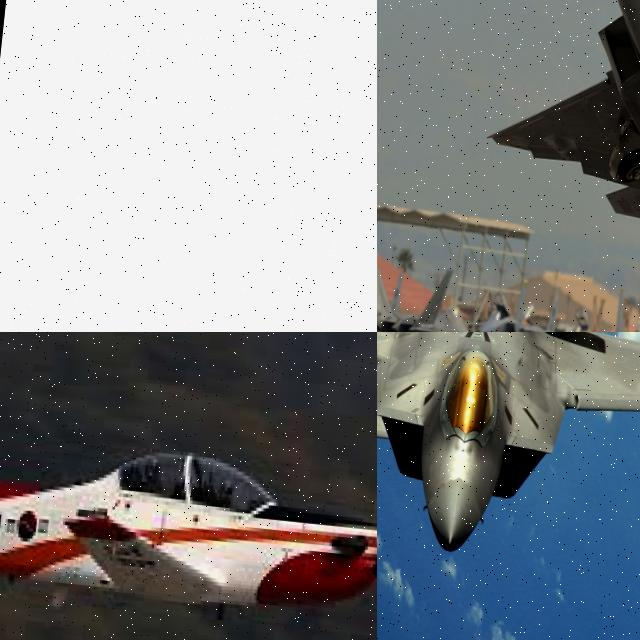F22: (377, 332, 640, 566), (478, 0, 640, 268)
KT-1: (0, 367, 377, 640)
